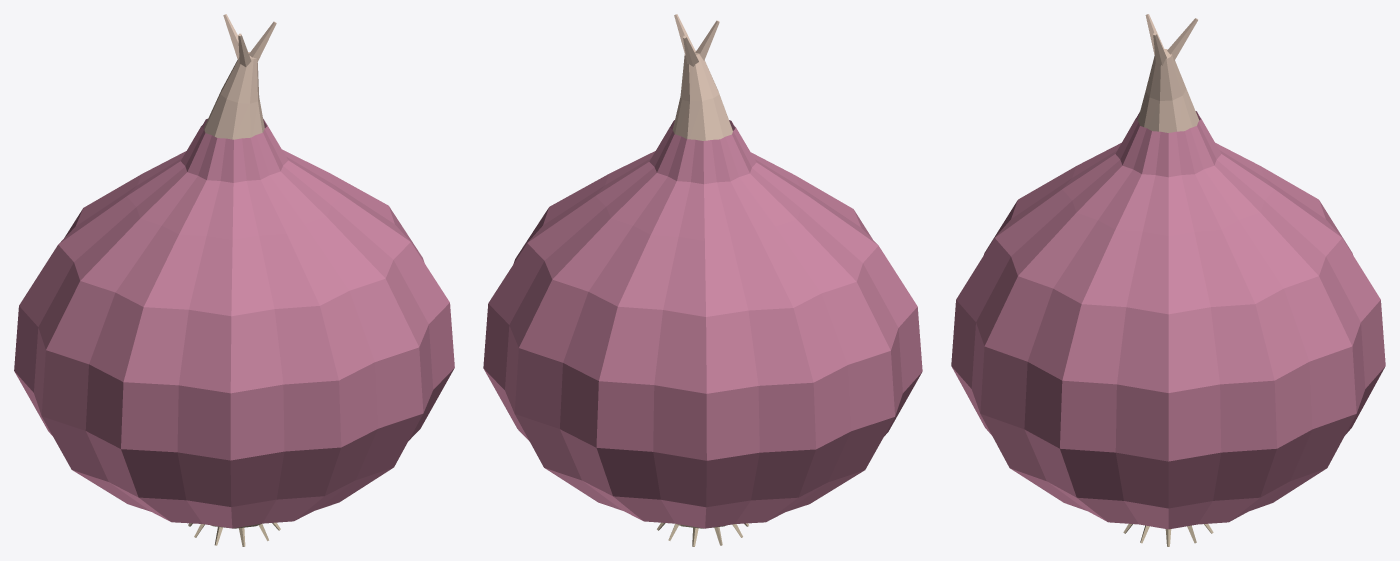
File: onion.glb
3 renders of one model, left to right at view 1: azimuth 30°, elevation 25°; view 2: azimuth 150°, elevation 25°; view 3: azimuth 270°, elevation 25°, orthographic.
Parts seen in each view (by area): view 1: onion; view 2: onion; view 3: onion.
Boxes of the visible parts, x1,y1,x2,y2 form: onion: [14, 14, 454, 546]; onion: [483, 14, 922, 546]; onion: [951, 14, 1385, 546].
Bounding box in the file's own units: 0.8014 × 1 × 0.7694.
